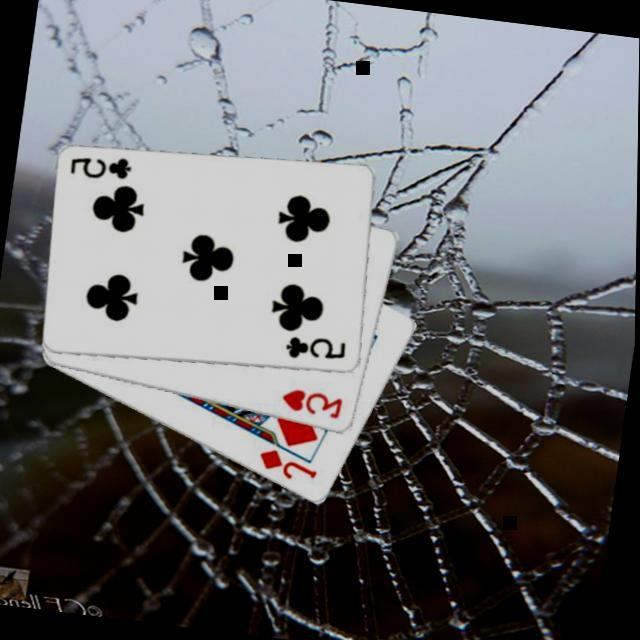3H: (279, 383, 348, 421)
5C: (67, 146, 136, 185), (283, 328, 351, 366)
JD: (255, 443, 324, 485)
